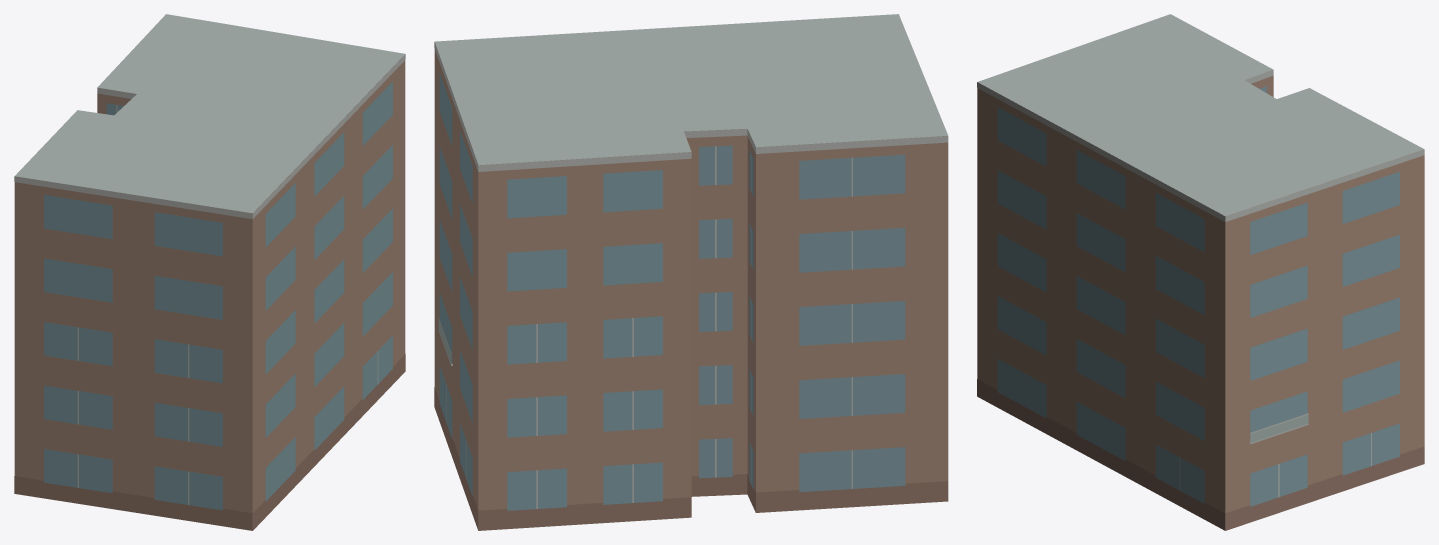
File: survey-upis-32781350.glb
3 views of the same model, side by side, from view 1: azimuth 30°, elevation 25°; view 2: azimuth 150°, elevation 25°; view 3: azimuth 270°, elevation 25° (orthographic). The views are drawn at different scales.
Visible parts, largest first — view 1: survey-upis-32781350.tmp; view 2: survey-upis-32781350.tmp; view 3: survey-upis-32781350.tmp.
Boxes of the visible parts, bbox=[...] form: survey-upis-32781350.tmp: bbox=[14, 14, 405, 530]; survey-upis-32781350.tmp: bbox=[434, 14, 948, 530]; survey-upis-32781350.tmp: bbox=[977, 14, 1424, 530].
Bounding box in the file's own units: 18.22 × 13.2 × 17.03.
